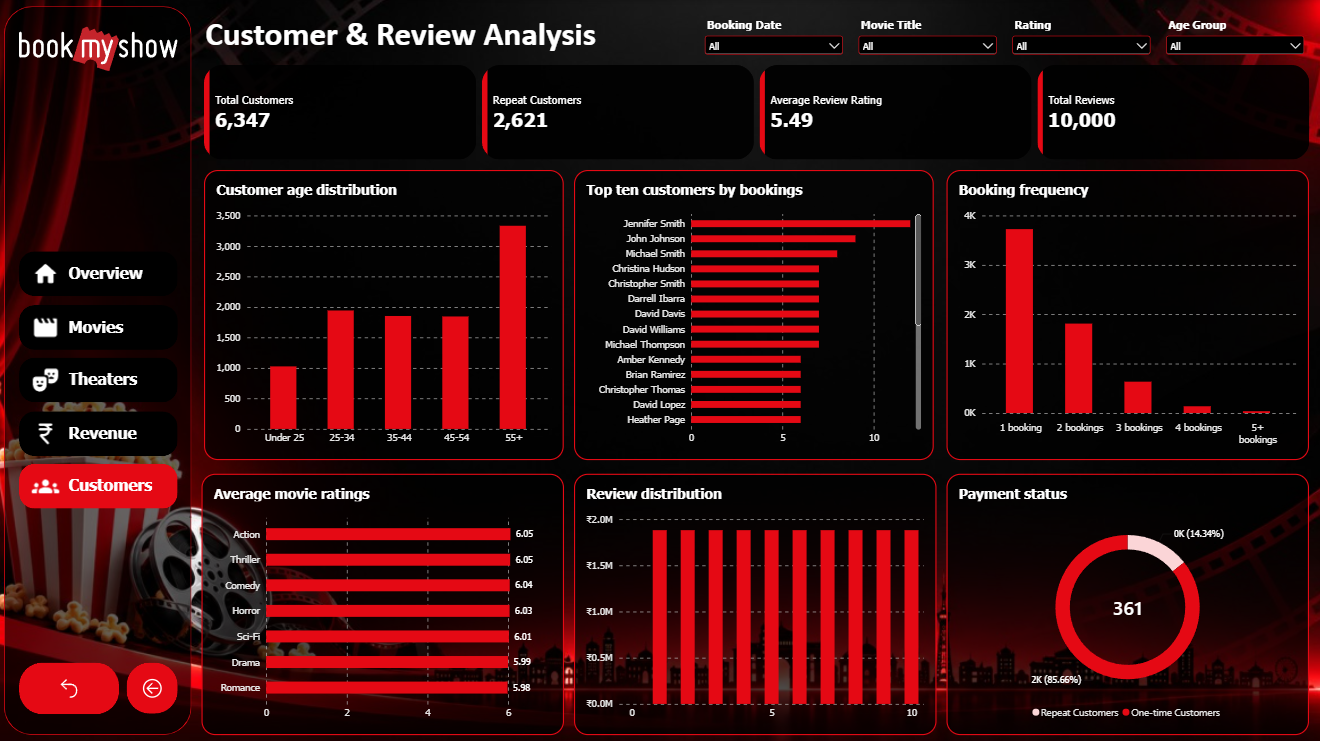

The dashboard page shown, as its layout file describes it:
{"tool":"powerbi","page":{"name":"Customer & Review Analysis","canvas":[1920,1080],"ordinal":4},"visuals":[{"type":"shape","box":[7.9,9,271.4,1055],"z":0},{"type":"image","box":[28.3,19.9,229.8,101.3],"z":1000,"group":"g1"},{"type":"cardVisual","fields":{"Data":["_Measures.Total Customers","_Measures.Repeat Customers","_Measures.Average Review Rating","_Measures.Total Reviews"]},"box":[296.8,94.1,1603.4,137.5],"z":1000},{"type":"group","id":"g1","title":"Group 2","box":[28.3,19.9,230.7,716.6],"z":2000},{"type":"actionButton","box":[29.1,363.7,229.8,65.1],"z":2000,"group":"g2"},{"type":"columnChart","title":"Customer age distribution","fields":{"Category":["bookmyshow_db users.Age Group"],"Y":["_Measures.Total Reviews"]},"box":[296.8,246.1,521.2,419.8],"z":3000},{"type":"actionButton","box":[29,440.6,230,65.1],"z":3000,"group":"g2"},{"type":"columnChart","title":"Booking frequency","fields":{"Category":["Booking Frequency.Bookings Per Customer"],"Y":["_Measures.Customers by Booking Frequency"]},"box":[1371.7,246.1,524.8,419.8],"z":4000},{"type":"actionButton","box":[29.1,517.5,229.8,65.1],"z":4000,"group":"g2"},{"type":"actionButton","box":[29.1,594.4,229.8,65.1],"z":5000,"group":"g2"},{"type":"barChart","title":"Average movie ratings","fields":{"Category":["bookmyshow_db movies.genre"],"Y":["_Measures.Average Movie Rating"]},"box":[293.9,685.9,525,378.2],"z":5000},{"type":"actionButton","box":[29.1,671.3,229.8,65.1],"z":6000,"group":"g2"},{"type":"columnChart","title":"Review distribution","fields":{"Category":["bookmyshow_db reviews.Rating Bucket"],"Y":["_Measures.Total Revenue"]},"box":[833.2,685.9,525,378.2],"z":6000},{"type":"donutChart","title":"Payment status","fields":{"Y":["_Measures.Repeat Customers","_Measures.One-time Customers"]},"box":[1372.4,685.9,525,378.2],"z":7000},{"type":"group","id":"g2","title":"Group 1","box":[29,363.7,230,372.8],"z":7001,"group":"g1"},{"type":"slicer","title":"Language","fields":{"Values":["bookmyshow_db users.Age Group"]},"box":[1684.9,25.3,209.9,56.1],"z":8000},{"type":"slicer","title":"Language","fields":{"Values":["bookmyshow_db movies.rating"]},"box":[1462.3,25.3,209.9,56.1],"z":9000},{"type":"slicer","title":"Language","fields":{"Values":["Top 10 Shows by Occupancy.Movie Title"]},"box":[1239.7,25.3,209.9,56.1],"z":10000},{"type":"slicer","title":"Language","fields":{"Values":["bookmyshow_db bookings.booking_date"]},"box":[1017.1,25.3,209.9,56.1],"z":11000},{"type":"textbox","box":[298.6,19.9,704,63.3],"z":12000},{"type":"actionButton","box":[28.3,959.2,145,75],"z":13000},{"type":"actionButton","box":[184.2,960,74.2,74.2],"z":14000},{"type":"barChart","title":"Top ten customers by bookings","fields":{"Category":["bookmyshow_db users.name"],"Y":["_Measures.Total Bookings"]},"box":[832.4,246.1,521.2,419.8],"z":14001}]}

Visuals, with their boxes on the page's 1920x1080 design canvas (x1, y1, x2, y2). These are canvas units, not pixel positions in the 1320x741 screenshot, which may show the page scaled, cropped or inside an application window:
shape: [x1=8, y1=9, x2=279, y2=1064]
image: [x1=28, y1=20, x2=258, y2=121]
cardVisual - _Measures.Total Customers x _Measures.Repeat Customers: [x1=297, y1=94, x2=1900, y2=232]
"Group 2" group: [x1=28, y1=20, x2=259, y2=736]
actionButton: [x1=29, y1=364, x2=259, y2=429]
"Customer age distribution" columnChart: [x1=297, y1=246, x2=818, y2=666]
actionButton: [x1=29, y1=441, x2=259, y2=506]
"Booking frequency" columnChart: [x1=1372, y1=246, x2=1896, y2=666]
actionButton: [x1=29, y1=518, x2=259, y2=583]
actionButton: [x1=29, y1=594, x2=259, y2=660]
"Average movie ratings" barChart: [x1=294, y1=686, x2=819, y2=1064]
actionButton: [x1=29, y1=671, x2=259, y2=736]
"Review distribution" columnChart: [x1=833, y1=686, x2=1358, y2=1064]
"Payment status" donutChart: [x1=1372, y1=686, x2=1897, y2=1064]
"Group 1" group: [x1=29, y1=364, x2=259, y2=736]
"Language" slicer: [x1=1685, y1=25, x2=1895, y2=81]
"Language" slicer: [x1=1462, y1=25, x2=1672, y2=81]
"Language" slicer: [x1=1240, y1=25, x2=1450, y2=81]
"Language" slicer: [x1=1017, y1=25, x2=1227, y2=81]
textbox: [x1=299, y1=20, x2=1003, y2=83]
actionButton: [x1=28, y1=959, x2=173, y2=1034]
actionButton: [x1=184, y1=960, x2=258, y2=1034]
"Top ten customers by bookings" barChart: [x1=832, y1=246, x2=1354, y2=666]
